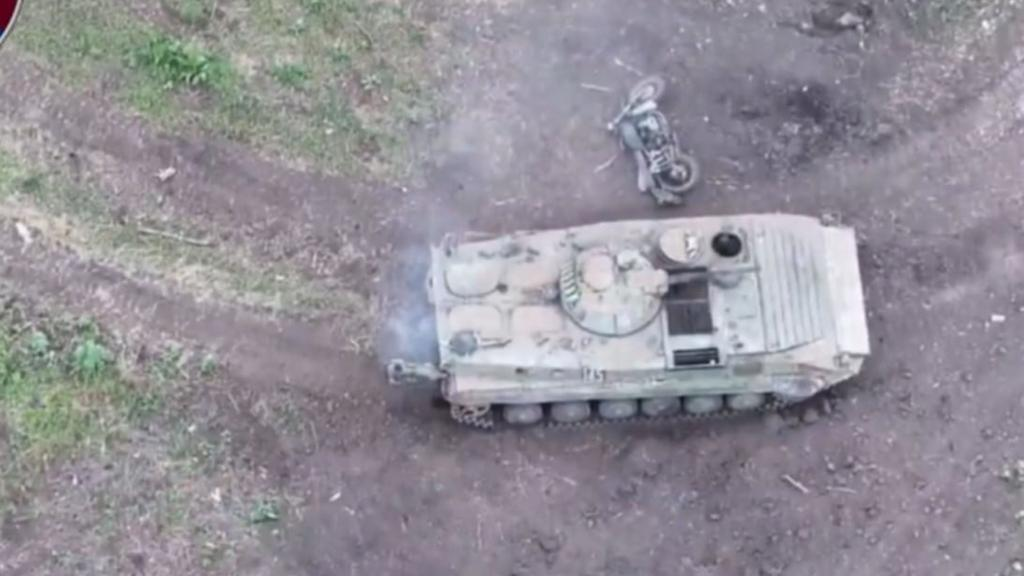APC-IFV: (426, 204, 873, 425)
